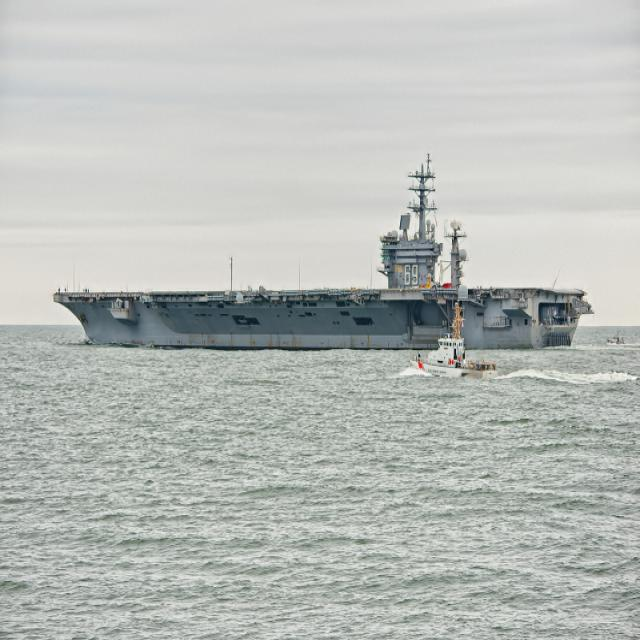Portanaves: (50, 152, 595, 356)
